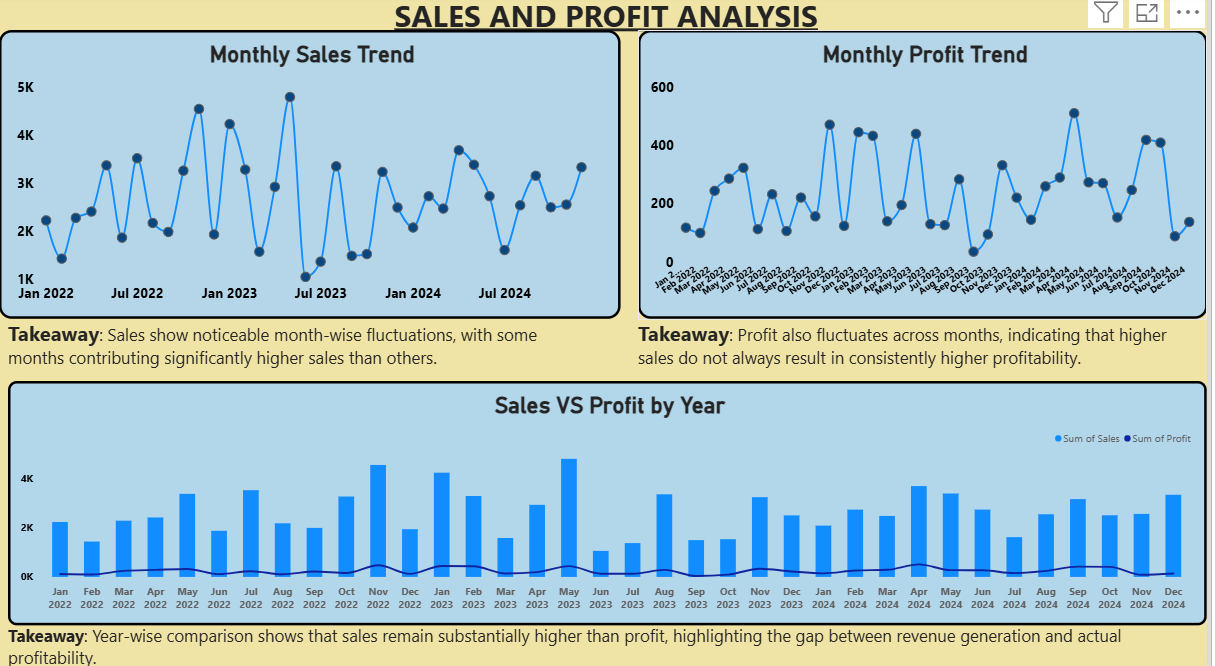

What the dashboard file says about the page in this screenshot:
{"tool":"powerbi","page":{"name":"Sales and Profit Trend","canvas":[1920,1080],"ordinal":1},"visuals":[{"type":"textbox","box":[11.3,0,1907.7,76.5],"z":0},{"type":"lineChart","title":"Monthly Sales Trend","fields":{"Category":["Superstore Data.Order Date.Variation.Date Hierarchy.Year","Superstore Data.Order Date.Variation.Date Hierarchy.Month"],"Y":["Sum(Superstore Data.Sales)"]},"box":[0,58.3,988.5,459.1],"z":1000},{"type":"lineChart","title":"Monthly Profit Trend","fields":{"Category":["Superstore Data.Month Year"],"Y":["Sum(Superstore Data.Profit)"]},"box":[1015.3,58.3,906,459.1],"z":2000},{"type":"lineClusteredColumnComboChart","title":"Sales VS Profit by Year","fields":{"Category":["Superstore Data.Month Year"],"Y":["Sum(Superstore Data.Sales)"],"Y2":["Sum(Superstore Data.Profit)"]},"box":[14.6,614.5,1906.6,388.6],"z":3000},{"type":"textbox","box":[14.6,517.3,927.8,80.2],"z":4000},{"type":"textbox","box":[1015.3,517.3,903.5,80.2],"z":5000},{"type":"textbox","box":[14.6,1003.1,1904.2,77.7],"z":6000}]}

Visuals, with their boxes in screenshot pixels (x1, y1, x2, y2), scaled from the page's 1920x1080 canvas onto the 1215x666 screenshot:
textbox: (7,0,1214,47)
"Monthly Sales Trend" lineChart: (0,36,626,319)
"Monthly Profit Trend" lineChart: (642,36,1214,319)
"Sales VS Profit by Year" lineClusteredColumnComboChart: (9,379,1214,619)
textbox: (9,319,596,368)
textbox: (642,319,1214,368)
textbox: (9,619,1214,665)
